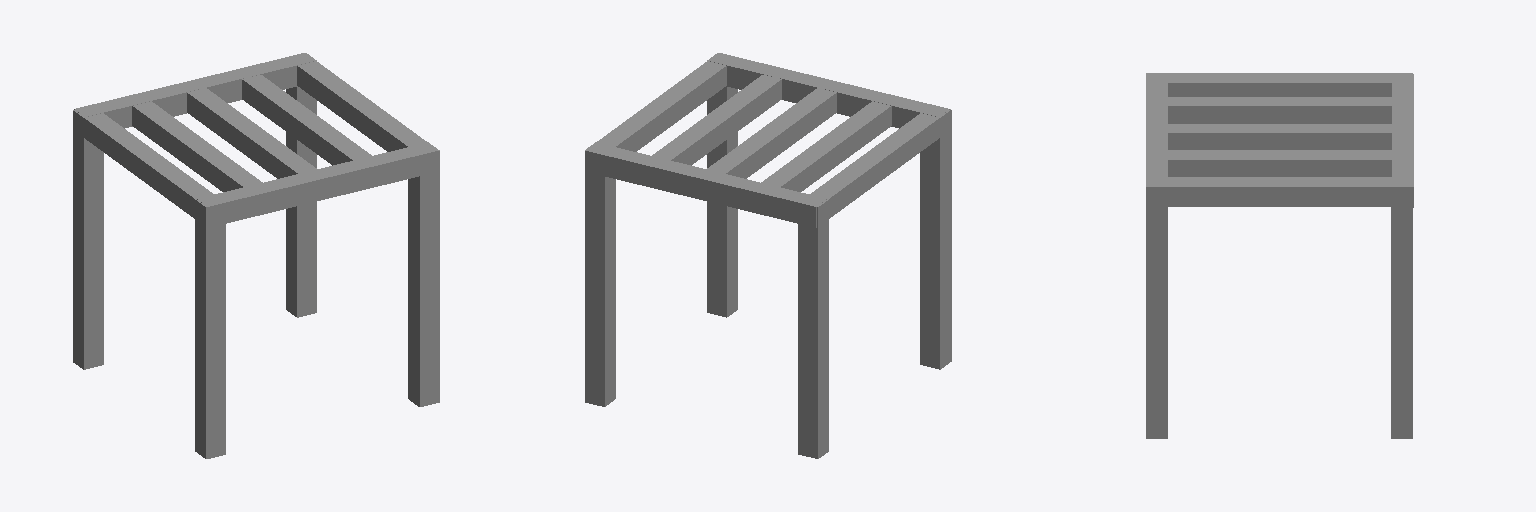
The model's file is drying_rack.obj.
The picture shows the model from 3 angles: view 1: azimuth 30°, elevation 25°; view 2: azimuth 150°, elevation 25°; view 3: azimuth 270°, elevation 25°; orthographic projection.
Visible parts, largest first — view 1: Cube.010; view 2: Cube.010; view 3: Cube.010.
Part boxes in pixels (left/top/right/bottom): Cube.010: left=73, top=53, right=439, bottom=458; Cube.010: left=585, top=53, right=951, bottom=458; Cube.010: left=1146, top=73, right=1413, bottom=438.
Size of the model in its own units: 0.9705 by 1 by 0.9624.